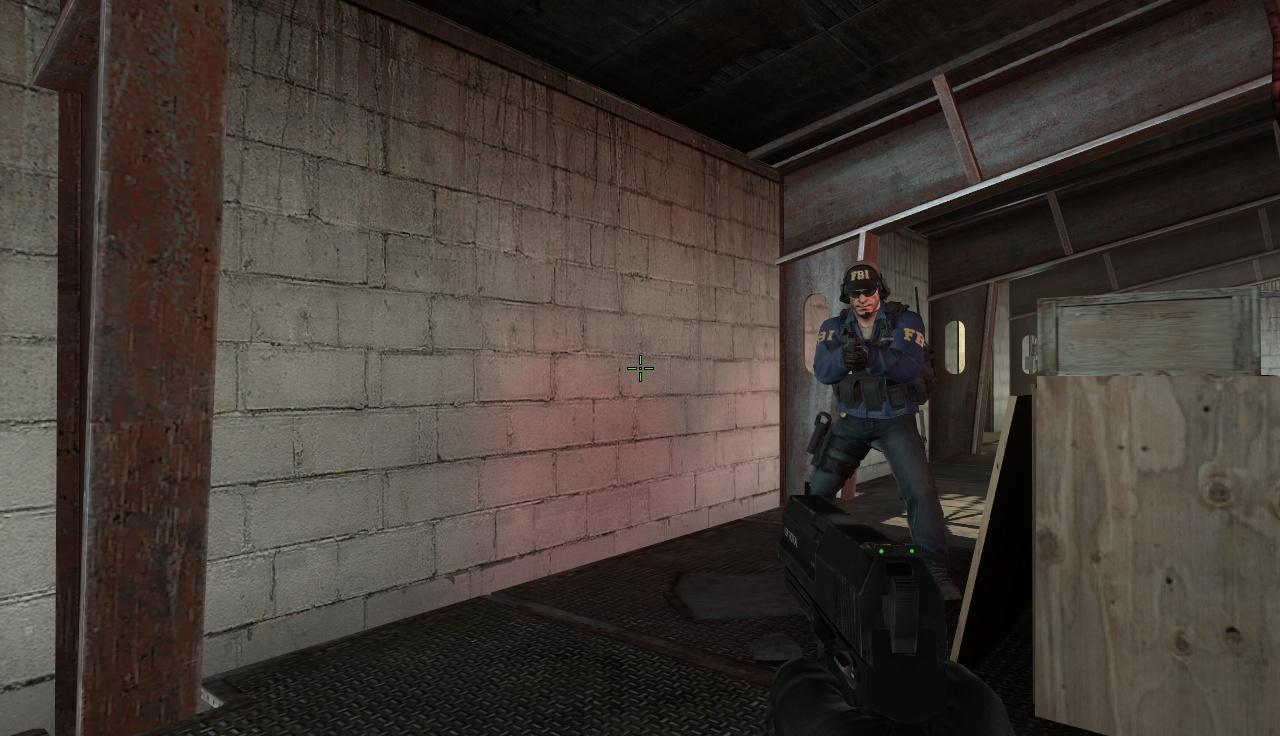ct: (813, 262, 931, 538)
cthead: (846, 264, 881, 317)
pistol: (780, 489, 970, 736)
